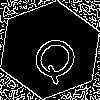Q: (25, 25, 90, 87)
